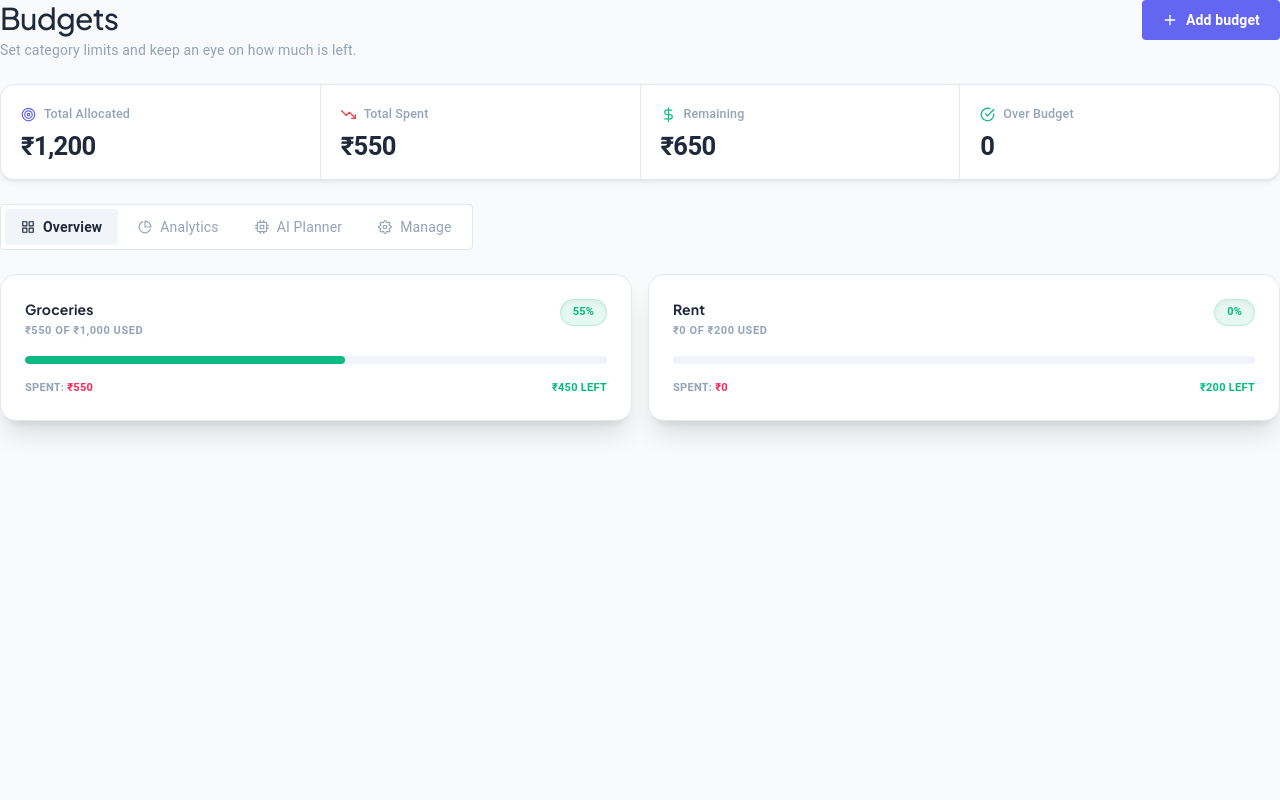
Test: UserBudget › creates a budget with the exact payload and resets the dialog
The image size is (1280, 800).
Check: the heading "Groceries" is shown, box x1=25 y1=300 x2=94 y2=318
Click the button "Add budget".
click(1211, 20)  # box x1=1142 y1=0 x2=1279 y2=40
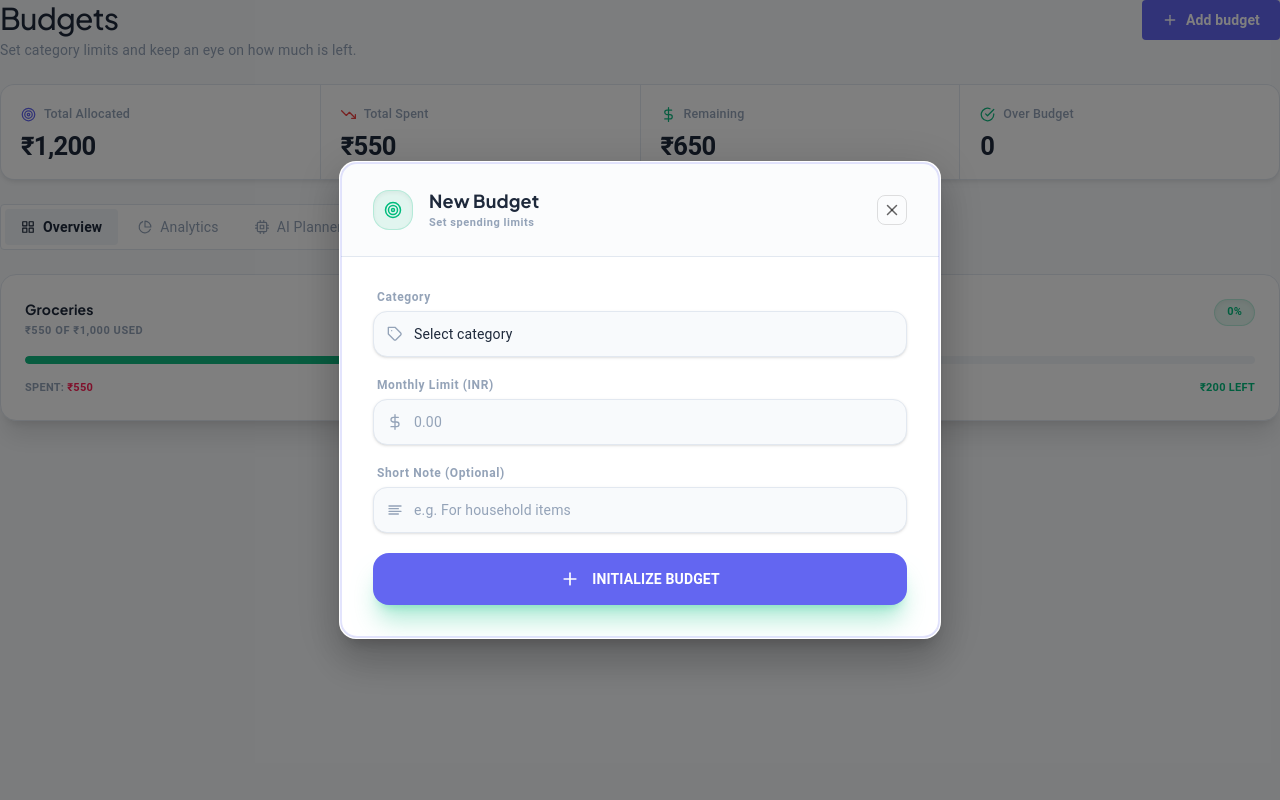
Select "Rent" in the dropdown showing "Select category" at (640, 334), box x1=373 y1=311 x2=907 y2=357
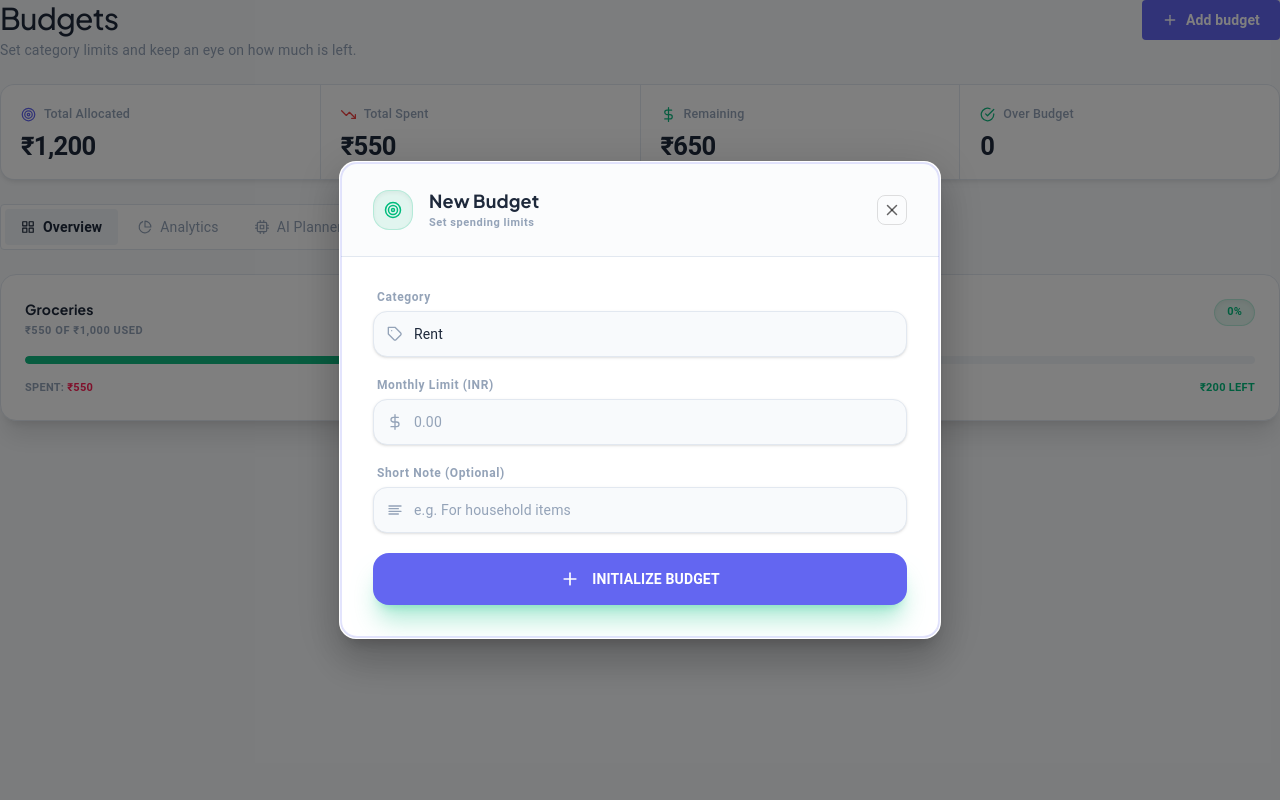
Type "800" into the number field with placeholder "0.00".
click(640, 422); type("800")  # box x1=373 y1=399 x2=907 y2=445
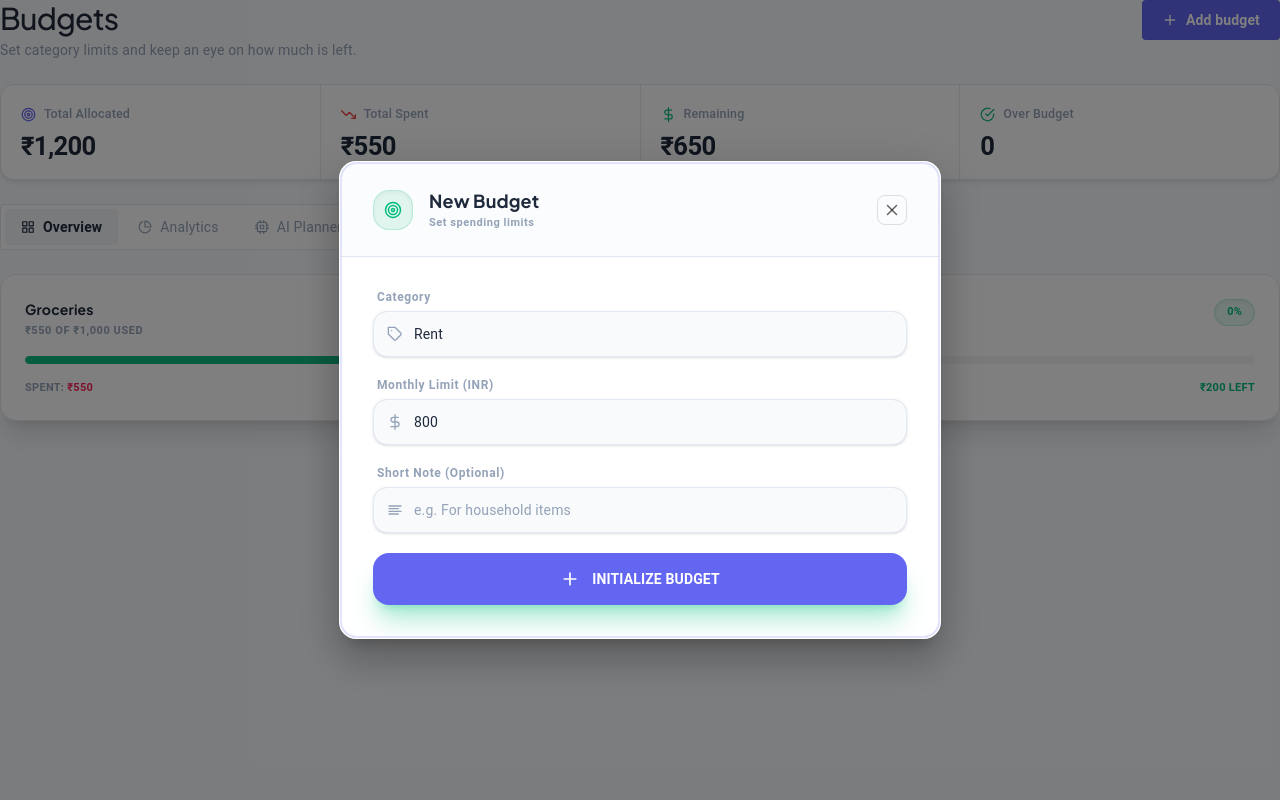
Type "Rent limit" into the field with placeholder "e.g. For household items".
click(640, 510); type("Rent limit")  # box x1=373 y1=487 x2=907 y2=533
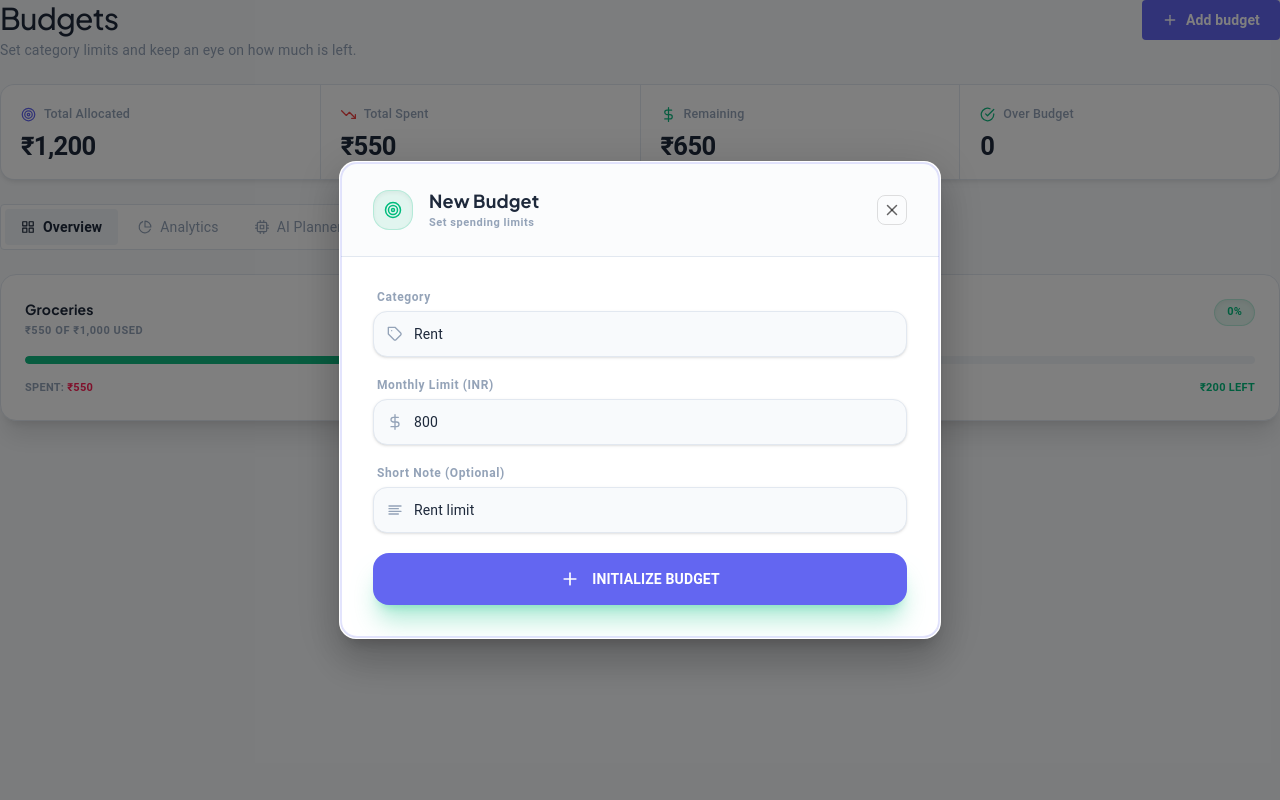
Click the button "INITIALIZE BUDGET".
click(640, 579)  # box x1=373 y1=553 x2=907 y2=605
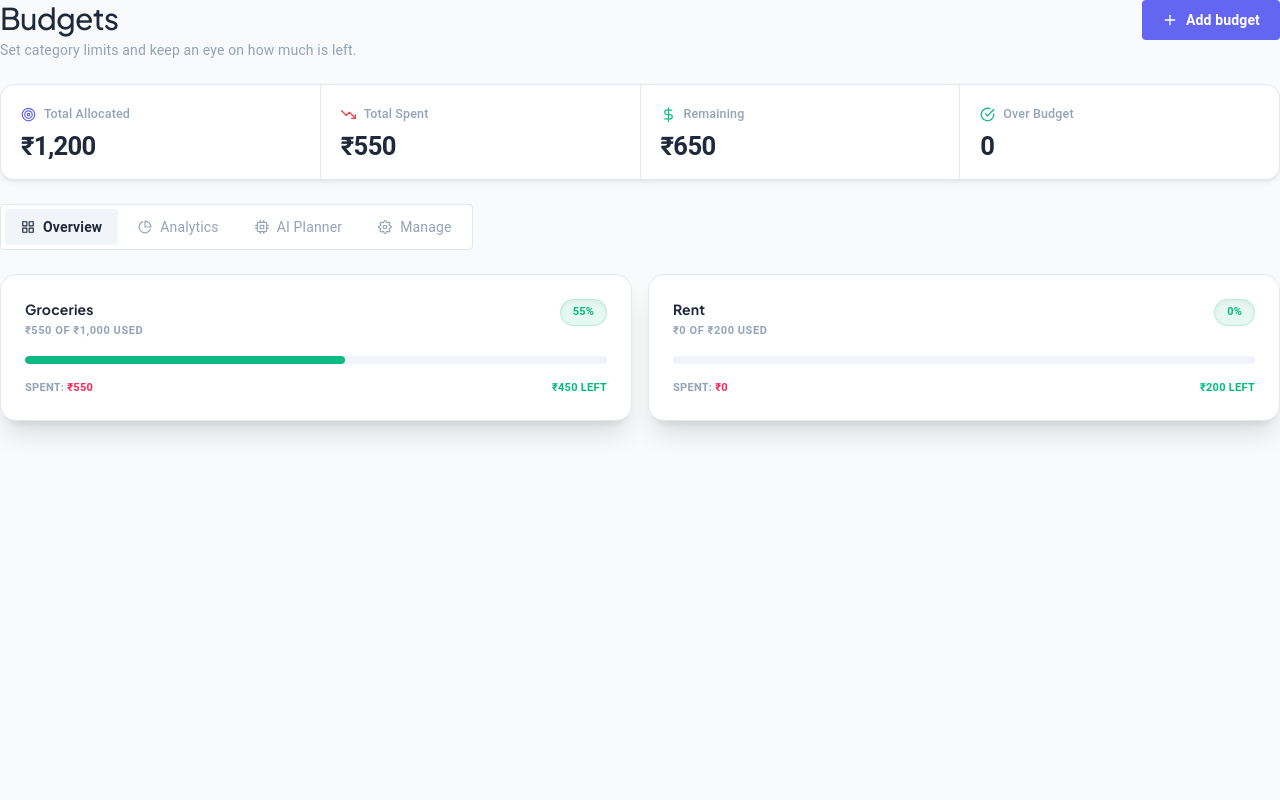
Check: the dialog is gone
Click the button "Add budget".
click(1211, 20)  # box x1=1142 y1=0 x2=1279 y2=40
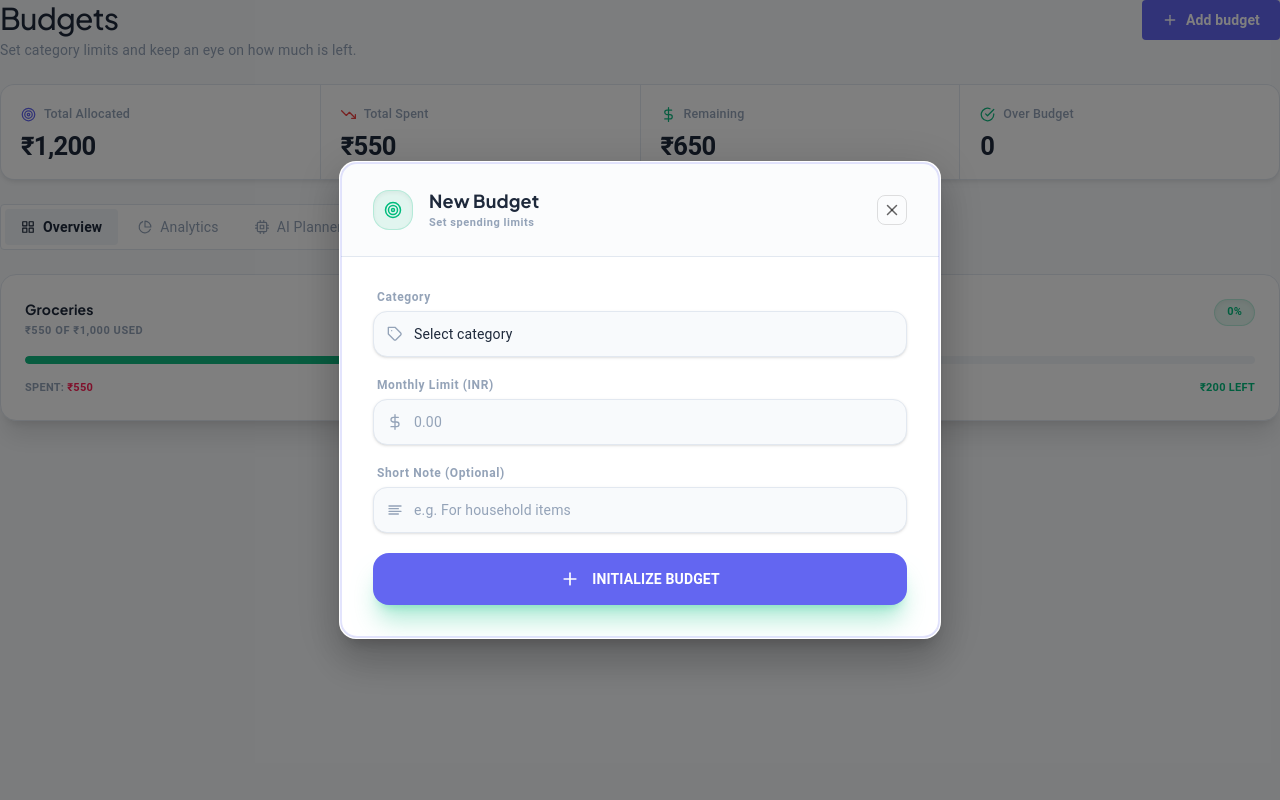
Check: the number field with placeholder "0.00" is not empty, box x1=373 y1=399 x2=907 y2=445
Check: the dropdown showing "Select category" is shown, box x1=373 y1=311 x2=907 y2=357
